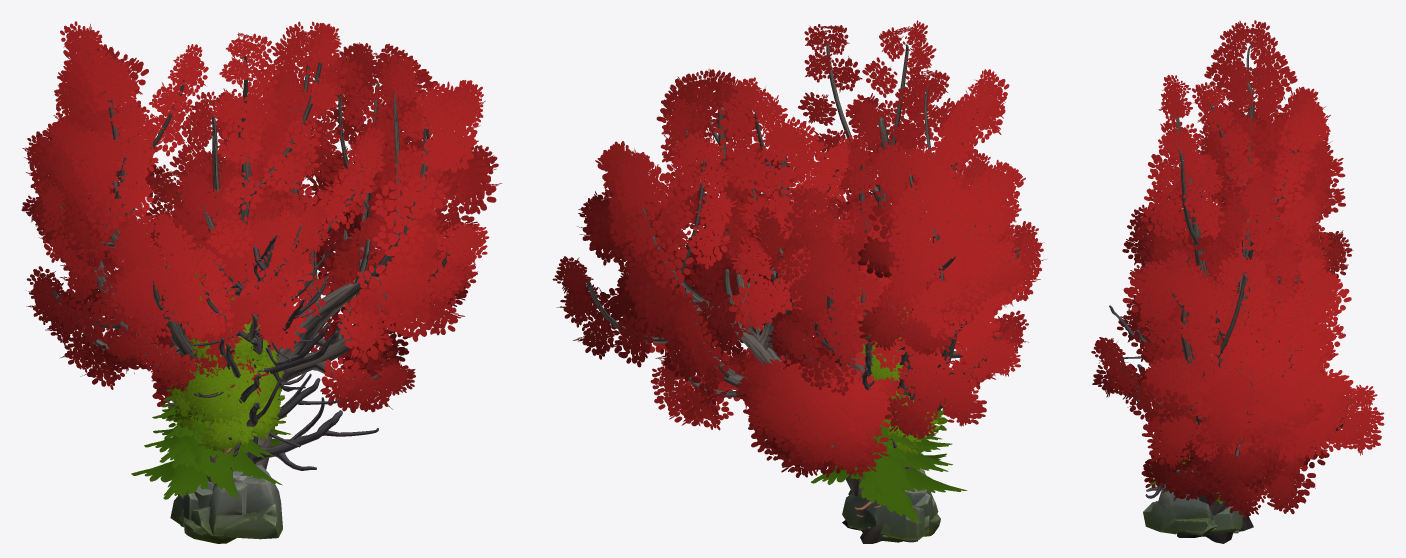
File: nature.glb
3 views of the same model, side by side, from view 1: azimuth 30°, elevation 25°; view 2: azimuth 150°, elevation 25°; view 3: azimuth 270°, elevation 25° (orthographic). The views are drawn at different scales.
Parts seen in each view (by area): view 1: TwistedTree_2, TwistedTree_1, DeadTree_2, Pine_2, Rock_Medium_3, CommonTree_3, CommonTree_1, CommonTree_2, DeadTree_1, Rock_Medium_1, Pine_1; view 2: TwistedTree_1, TwistedTree_2, Pine_2, Rock_Medium_2, Pine_1, CommonTree_1; view 3: TwistedTree_1, TwistedTree_2, Rock_Medium_3, Rock_Medium_2, DeadTree_2.
Boxes of the visible parts, x1,y1,x2,y2 form: TwistedTree_2: [21, 21, 341, 481]; TwistedTree_1: [151, 21, 501, 527]; DeadTree_2: [169, 219, 378, 470]; Pine_2: [131, 354, 291, 499]; Rock_Medium_3: [183, 465, 282, 543]; CommonTree_3: [179, 288, 284, 427]; CommonTree_1: [168, 345, 286, 451]; CommonTree_2: [171, 338, 284, 453]; DeadTree_1: [146, 276, 338, 447]; Rock_Medium_1: [179, 471, 247, 536]; Pine_1: [144, 350, 274, 476]; TwistedTree_1: [552, 68, 918, 543]; TwistedTree_2: [754, 20, 1046, 469]; Pine_2: [811, 422, 967, 522]; Rock_Medium_2: [842, 488, 929, 540]; Pine_1: [856, 392, 952, 510]; CommonTree_1: [861, 357, 947, 455]; TwistedTree_1: [1091, 170, 1384, 543]; TwistedTree_2: [1122, 20, 1353, 373]; Rock_Medium_3: [1143, 484, 1213, 534]; Rock_Medium_2: [1210, 506, 1242, 532]; DeadTree_2: [1109, 253, 1189, 498].
Bounding box in the file's own units: 17.96 × 19.08 × 11.55.
Materials: 12 (12 with a texture image).
